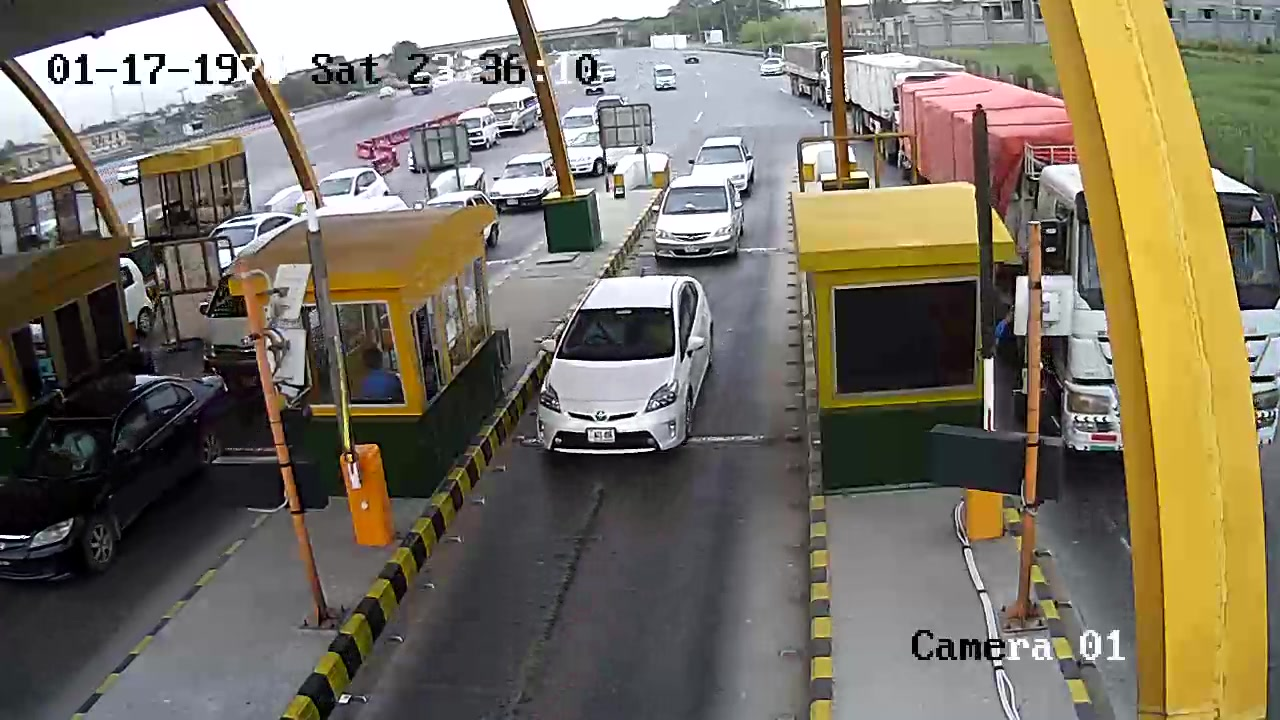F1: (531, 272, 730, 462)
